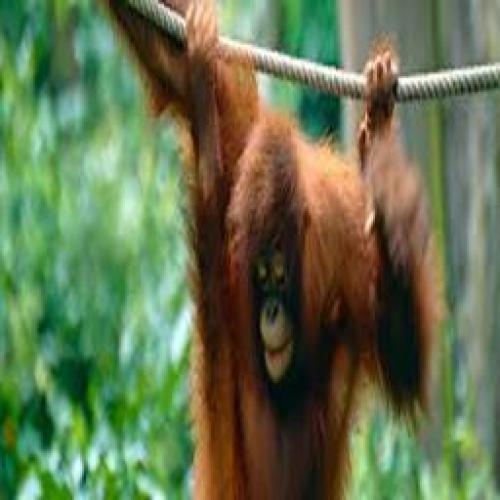orangutan-endangered: (104, 2, 440, 500)
